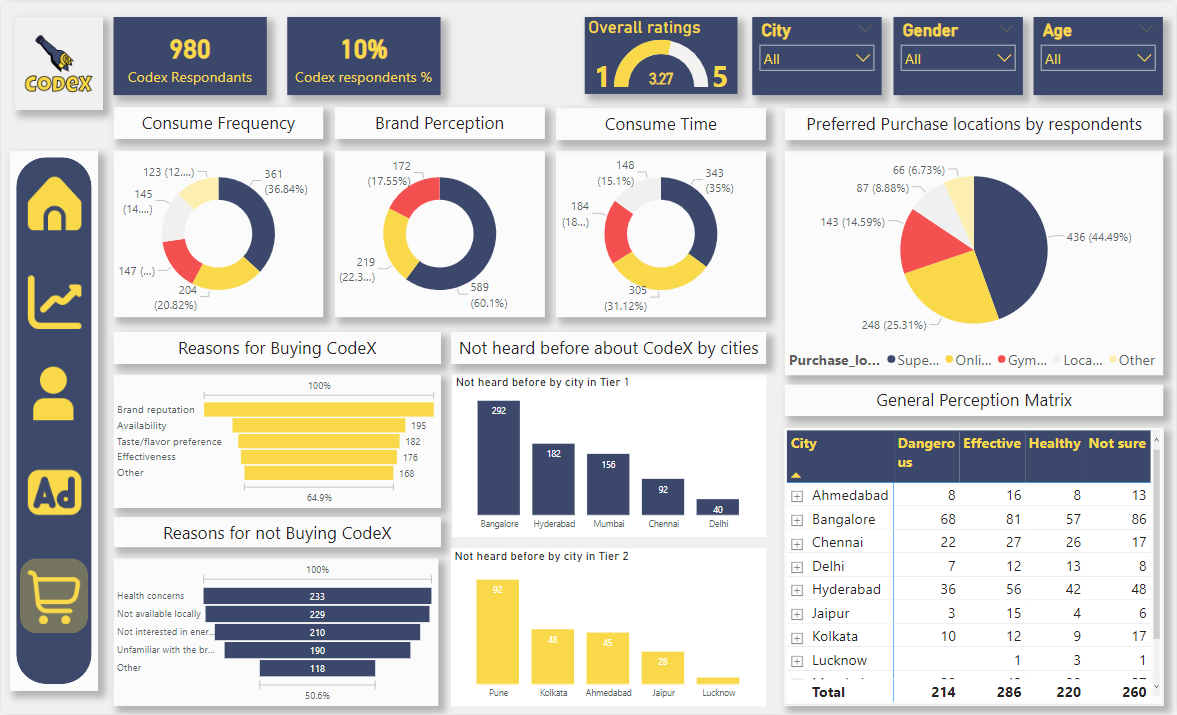

The dashboard page shown, as its layout file describes it:
{"tool":"powerbi","page":{"name":"Codex Marketing Analysis","canvas":[1650,1000],"ordinal":4},"visuals":[{"type":"slicer","fields":{"Values":["codex dim_repondents.Gender"]},"box":[1251.9,20.4,181.5,109.3],"z":0},{"type":"slicer","fields":{"Values":["codex dim_repondents.Age"]},"box":[1450,20.4,181.5,109.3],"z":1000},{"type":"slicer","fields":{"Values":["codex dim_cities.City"]},"box":[1053.7,20.4,181.5,109.3],"z":2000},{"type":"pivotTable","fields":{"Rows":["codex dim_cities.City","codex dim_repondents.Age"],"Columns":["codex fact_survey_responses.General_perception"],"Values":["Report measures.Total respondents codex"]},"box":[1098.2,596.5,533.3,391.2],"z":3000},{"type":"funnel","fields":{"Category":["codex fact_survey_responses.Reasons_preventing_trying"],"Y":["Report measures.Total respondents codex"]},"box":[157.9,780.7,456.1,207],"z":4000},{"type":"card","fields":{"Values":["Report measures.Codex respondent"]},"box":[157.4,20.4,214.8,109.3],"z":5000},{"type":"card","fields":{"Values":["Report measures.Codex respondents %"]},"box":[401.9,20.4,214.8,109.3],"z":6000},{"type":"pieChart","fields":{"Category":["codex fact_survey_responses.Purchase_location"],"Y":["Report measures.Total respondents codex"]},"box":[1100,209.3,531.5,314.8],"z":7000},{"type":"textbox","box":[157.4,148.1,294.4,44.4],"z":8000},{"type":"textbox","box":[1100,150,531.5,44.4],"z":9000},{"type":"textbox","box":[157.4,463,459.3,44.4],"z":10000},{"type":"funnel","fields":{"Category":["codex fact_survey_responses.Reasons_for_choosing_brands"],"Y":["Report measures.Total respondents codex"]},"box":[157.4,523.4,459.6,187.2],"z":11000},{"type":"shape","box":[13,209.3,124.1,757.4],"z":12000},{"type":"donutChart","fields":{"Category":["codex fact_survey_responses.Consume_frequency"],"Y":["Report measures.Total respondents codex"]},"box":[157.4,209.3,294.4,233.3],"z":13000},{"type":"donutChart","fields":{"Category":["codex fact_survey_responses.Brand_perception"],"Y":["Report measures.Total respondents codex"]},"box":[468.5,209.3,294.4,233.3],"z":14000},{"type":"donutChart","fields":{"Category":["codex fact_survey_responses.Consume_time"],"Y":["Report measures.Total respondents codex"]},"box":[779.6,209.3,294.4,233.3],"z":15000},{"type":"textbox","box":[468.5,148.1,294.4,44.4],"z":16000},{"type":"textbox","box":[779.6,150,294.4,44.4],"z":17000},{"type":"textbox","box":[1100,536.8,531.6,43.9],"z":18000},{"type":"textbox","box":[157.4,723.4,459.6,42.6],"z":19000},{"type":"image","box":[28.8,240.4,94.2,84.6],"z":20000},{"type":"image","box":[28.8,378.8,94.2,84.6],"z":21000},{"type":"image","box":[26.9,507.7,94.2,84.6],"z":22000},{"type":"image","box":[28.8,646.2,94.2,84.6],"z":23000},{"type":"image","box":[28.8,792.3,94.2,84.6],"z":24000},{"type":"shape","box":[26.9,780.8,96.2,105.8],"z":25000},{"type":"image","box":[19.2,21.2,123.1,130.8],"z":26000},{"type":"gauge","fields":{"Y":["Avg(codex fact_survey_responses.Taste_experience)"]},"box":[818.8,20.8,214.6,108.3],"z":27000},{"type":"columnChart","title":"Not heard before by city in Tier 1","fields":{"Category":["codex dim_cities.City"],"Y":["CountNonNull(codex dim_cities.Tier)","CountNonNull(codex fact_survey_responses.Heard_before)"]},"box":[634,523.4,440.4,227.7],"z":28000},{"type":"columnChart","title":"Not heard before by city in Tier 2","fields":{"Category":["codex dim_cities.City"],"Y":["CountNonNull(codex dim_cities.Tier)","CountNonNull(codex fact_survey_responses.Heard_before)"]},"box":[631.9,766,442.6,221.3],"z":29000},{"type":"textbox","box":[631.9,463.8,442.6,44.7],"z":30000}]}

Visuals, with their boxes in screenshot pixels (x1, y1, x2, y2), scaled from the page's 1650x1000 canvas onto the 1177x715 screenshot:
slicer - codex dim_repondents.Gender: 893/15/1022/93
slicer - codex dim_repondents.Age: 1034/15/1164/93
slicer - codex dim_cities.City: 752/15/881/93
pivotTable - codex dim_cities.City x codex dim_repondents.Age: 783/426/1164/706
funnel - codex fact_survey_responses.Reasons_preventing_trying x Report measures.Total respondents codex: 113/558/438/706
card - Report measures.Codex respondent: 112/15/266/93
card - Report measures.Codex respondents %: 287/15/440/93
pieChart - codex fact_survey_responses.Purchase_location x Report measures.Total respondents codex: 785/150/1164/375
textbox: 112/106/322/138
textbox: 785/107/1164/139
textbox: 112/331/440/363
funnel - codex fact_survey_responses.Reasons_for_choosing_brands x Report measures.Total respondents codex: 112/374/440/508
shape: 9/150/98/691
donutChart - codex fact_survey_responses.Consume_frequency x Report measures.Total respondents codex: 112/150/322/316
donutChart - codex fact_survey_responses.Brand_perception x Report measures.Total respondents codex: 334/150/544/316
donutChart - codex fact_survey_responses.Consume_time x Report measures.Total respondents codex: 556/150/766/316
textbox: 334/106/544/138
textbox: 556/107/766/139
textbox: 785/384/1164/415
textbox: 112/517/440/548
image: 21/172/88/232
image: 21/271/88/331
image: 19/363/86/423
image: 21/462/88/523
image: 21/566/88/627
shape: 19/558/88/634
image: 14/15/102/109
gauge - Avg(codex fact_survey_responses.Taste_experience): 584/15/737/92
"Not heard before by city in Tier 1" columnChart: 452/374/766/537
"Not heard before by city in Tier 2" columnChart: 451/548/766/706
textbox: 451/332/766/364
